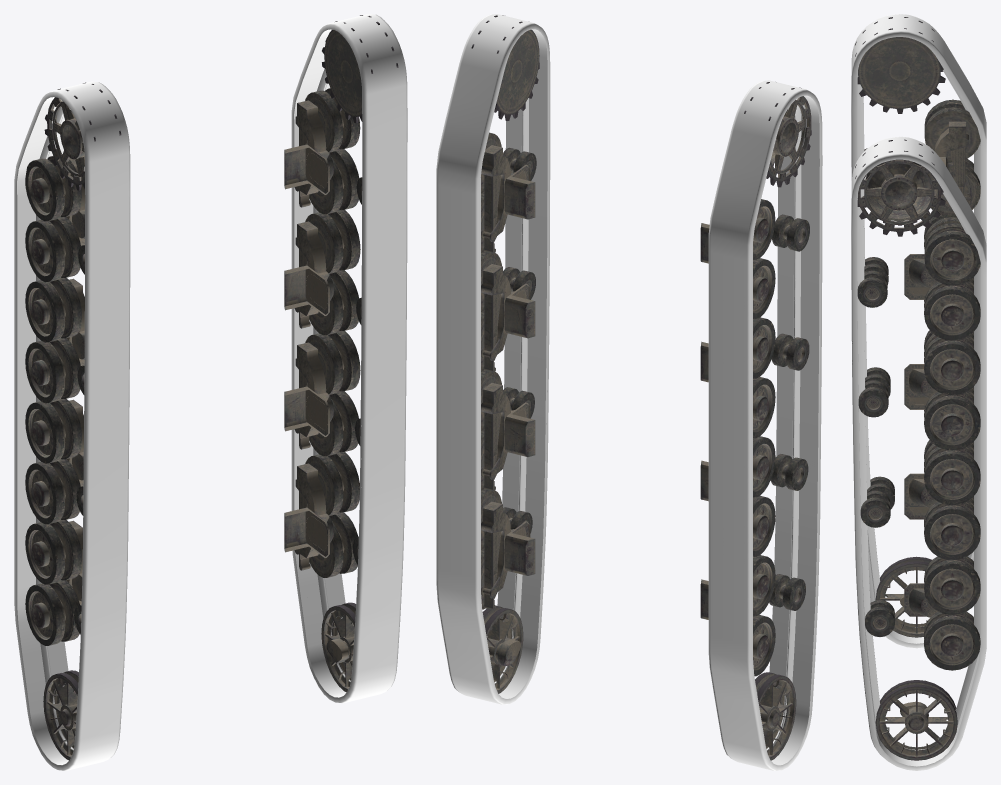
Rendered from Chassis.glb.
The picture shows the model from 3 angles, left to right: view 1: azimuth 30°, elevation 25°; view 2: azimuth 150°, elevation 25°; view 3: azimuth 270°, elevation 25°; orthographic projection. The views are drawn at different scales.
Parts seen in each view (by area): view 1: set_0_group_0, set_1_group_0, set_3_group_0, set_2_group_0; view 2: set_0_group_0, set_1_group_0, set_3_group_0, set_2_group_0; view 3: set_3_group_0, set_1_group_0, set_2_group_0, set_0_group_0.
Boxes of the visible parts, x1,y1,x2,y2 form: set_0_group_0: (14, 81, 130, 770); set_1_group_0: (291, 14, 407, 703); set_3_group_0: (284, 15, 398, 692); set_2_group_0: (25, 82, 121, 760); set_0_group_0: (708, 80, 822, 770); set_1_group_0: (436, 14, 550, 704); set_3_group_0: (471, 15, 539, 693); set_2_group_0: (700, 82, 811, 760); set_3_group_0: (855, 139, 980, 760); set_1_group_0: (851, 136, 986, 770); set_2_group_0: (855, 17, 980, 637); set_0_group_0: (851, 14, 986, 648).
Bounding box in the file's own units: 2.78 × 5.65 × 1.12.
Materials: 4 (2 with a texture image).
